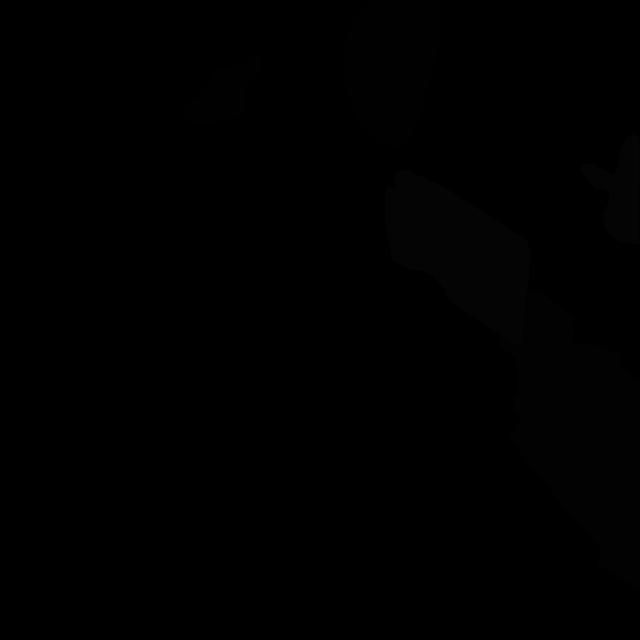cardboard: (498, 292, 640, 594)
rigid_plastic: (343, 0, 442, 149), (186, 54, 262, 125)
soft_plastic: (385, 170, 530, 345), (581, 133, 640, 244)
